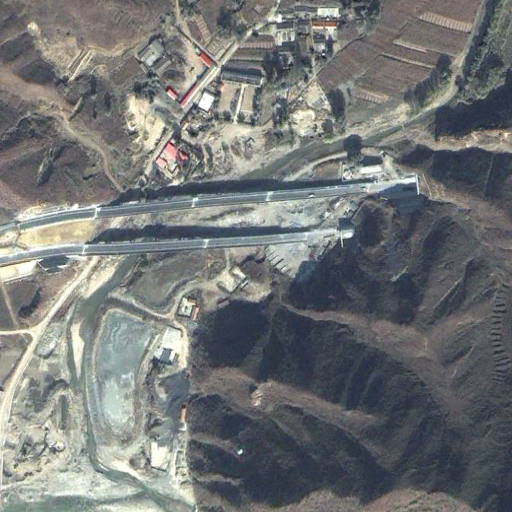tp: (90, 249, 226, 450)
